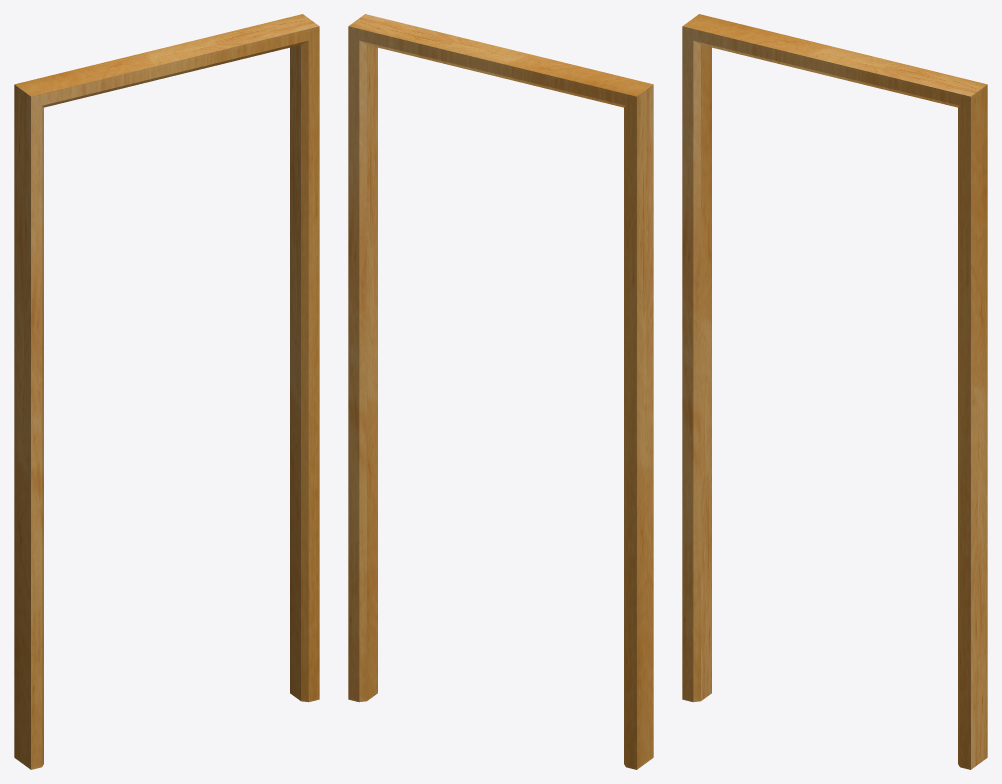
File: doorHall_frame.fbx
The picture shows the model from 3 angles, left to right: view 1: azimuth 30°, elevation 25°; view 2: azimuth 150°, elevation 25°; view 3: azimuth 330°, elevation 25°; orthographic projection.
Visible parts, largest first — view 1: frame; view 2: frame; view 3: frame.
Boxes of the visible parts, x1,y1,x2,y2 form: frame: (14,14,319,769); frame: (348,14,653,769); frame: (682,14,987,769).
Size of the model in its own units: 44.58 by 99.41 by 4.5.
1 material, 1 textured.
